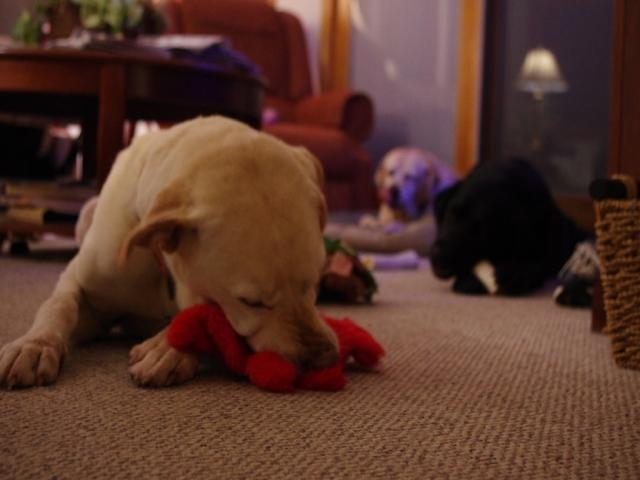Dog: (0, 114, 328, 392), (318, 154, 602, 303), (316, 144, 462, 256)
